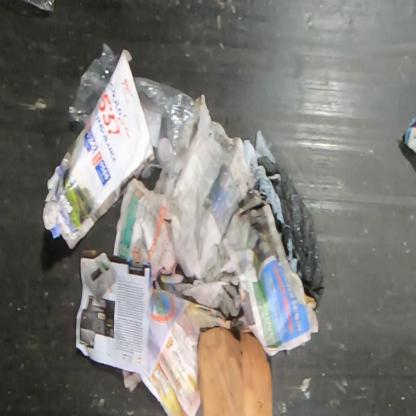cardboard: (42, 49, 160, 250), (197, 326, 274, 416)
soft_plastic: (258, 156, 324, 311), (133, 77, 198, 167), (68, 42, 119, 126), (244, 129, 284, 223), (22, 0, 55, 13), (286, 238, 298, 273)
